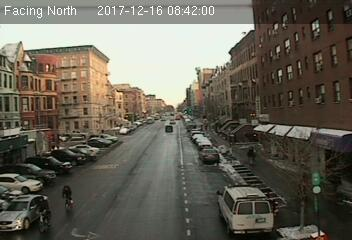bicycle: (35, 195, 52, 233), (59, 183, 75, 214)
car: (1, 194, 47, 231), (200, 147, 220, 163), (164, 125, 173, 132)
police: (216, 181, 277, 236)
